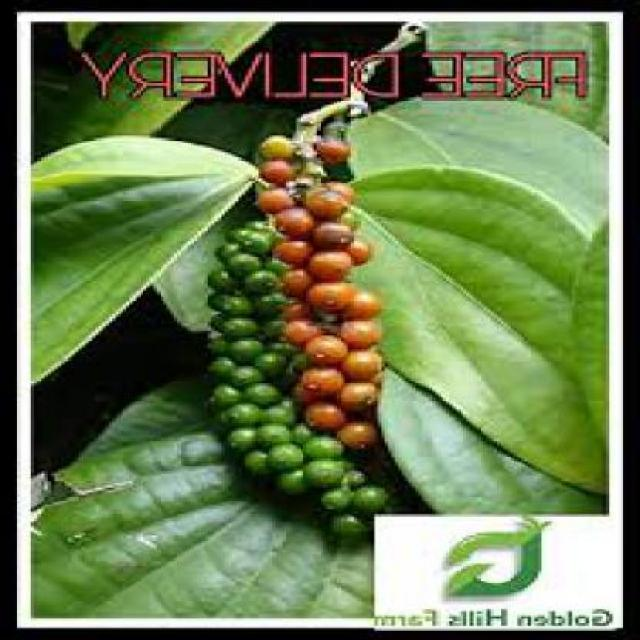RIPE: (283, 131, 392, 440)
UNRIPE: (205, 195, 286, 495)
